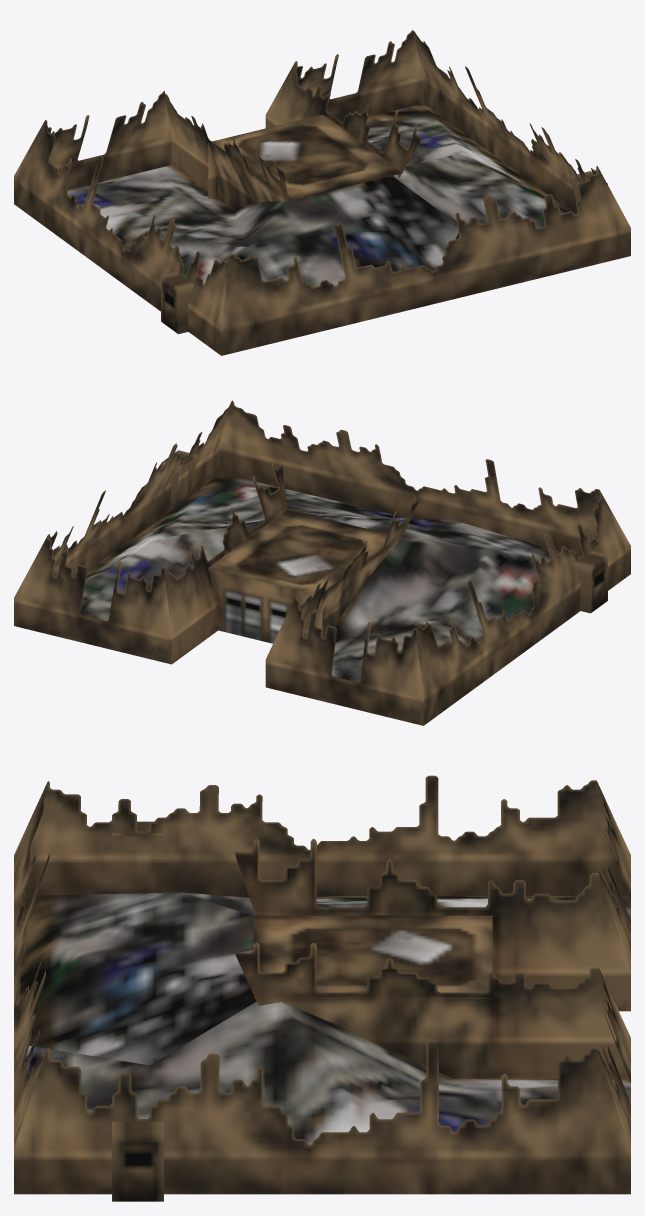
File: hpgoutbldg_dam.glb
3 views of the same model, one above another, from view 1: azimuth 30°, elevation 25°; view 2: azimuth 150°, elevation 25°; view 3: azimuth 270°, elevation 25° (orthographic). The views are drawn at different scales.
Visible parts, largest first — view 1: Innards; view 2: Innards; view 3: Innards.
Part boxes in pixels (x1,y1,x2,y2): Innards: [14, 30, 630, 355]; Innards: [14, 400, 630, 725]; Innards: [14, 775, 630, 1201].
Size of the model in its own units: 24.2 by 5.86 by 20.23.
1 material, 1 textured.
